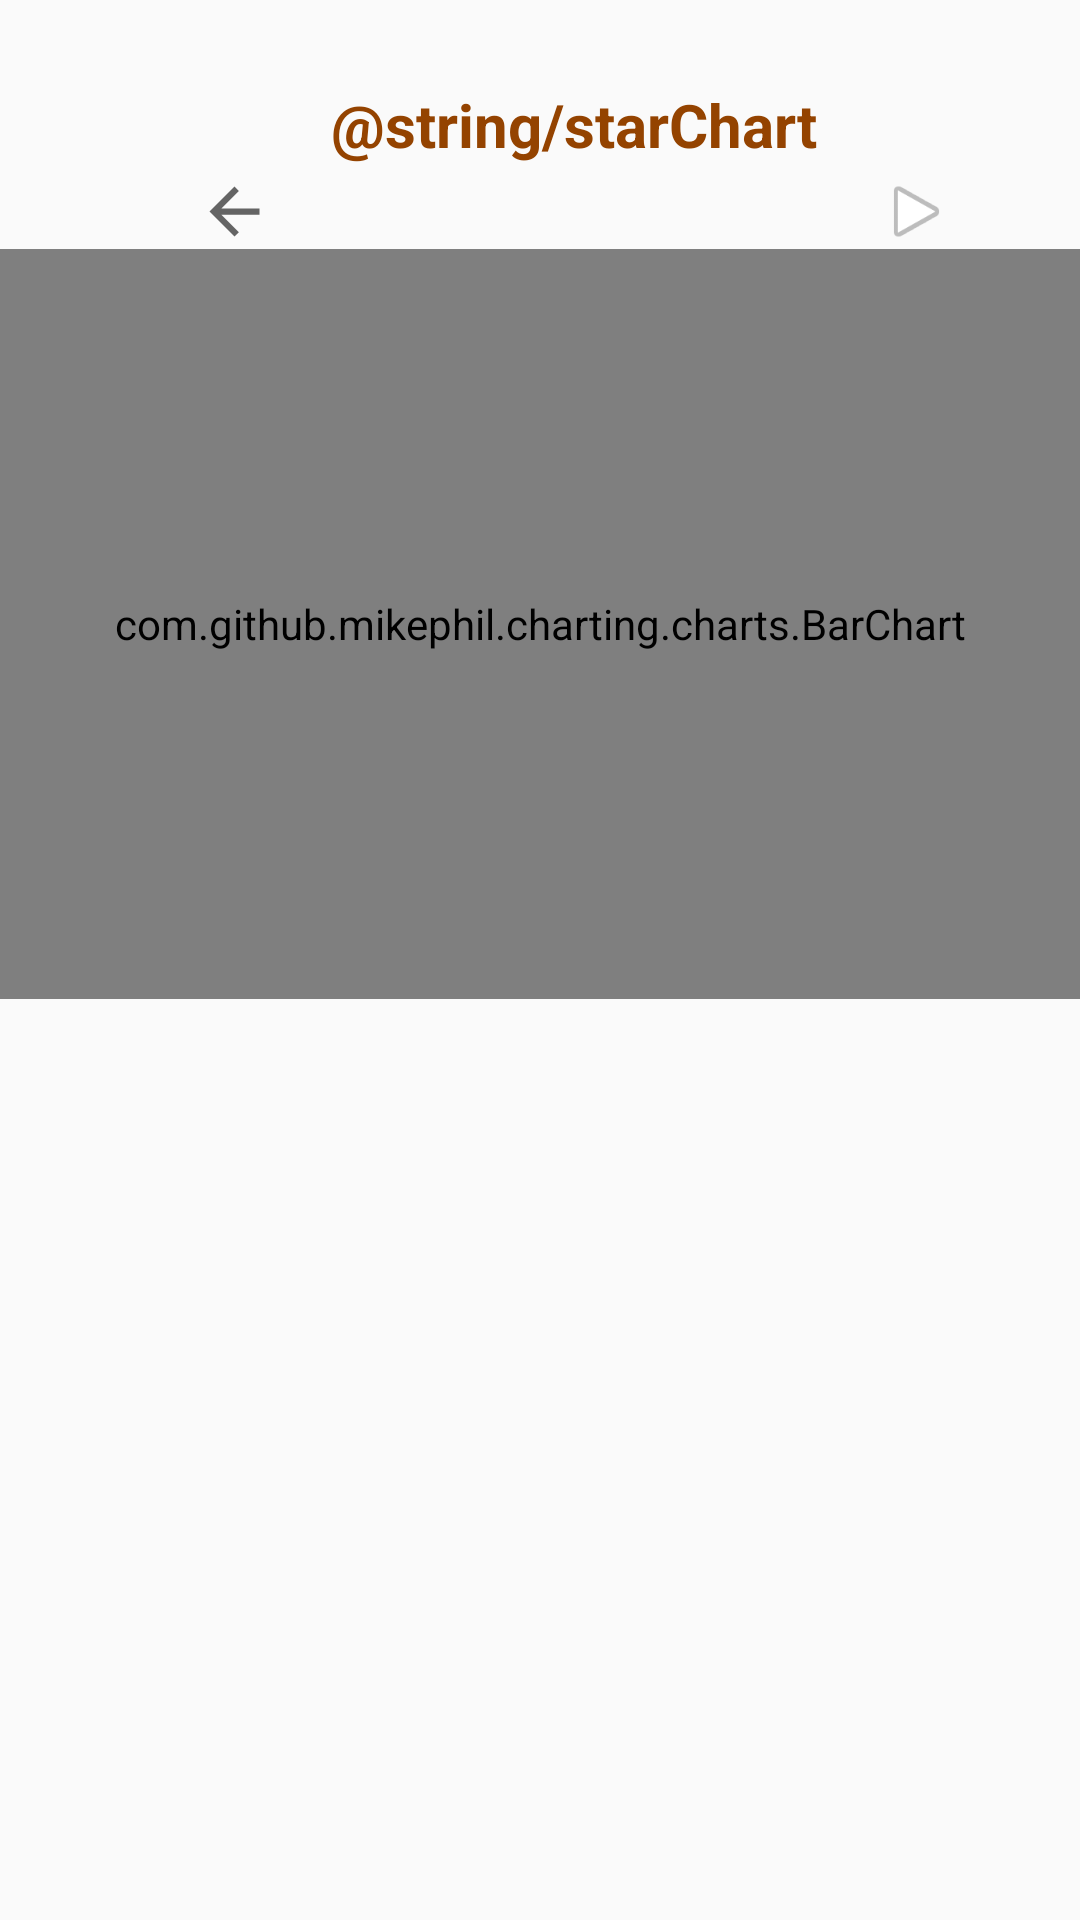

Named icons in this screenshot (1080px x 1920px) and their centers, (x=x, y=y):
play: (x=916, y=211)
